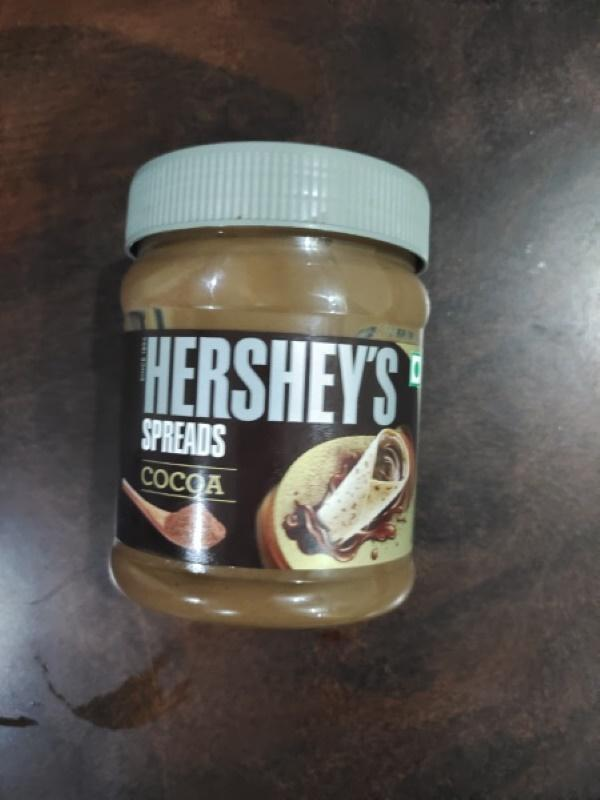Hershey-s: (101, 130, 447, 648)
